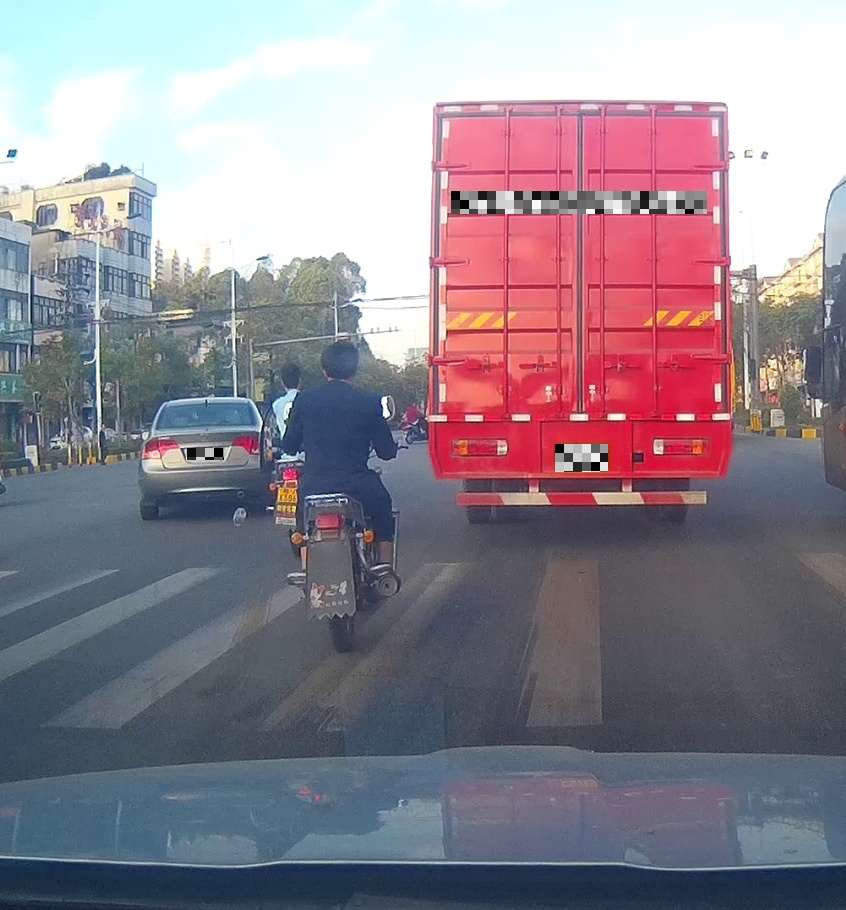L_light: (451, 438, 507, 456), (141, 439, 180, 459)
R_light: (653, 438, 708, 455), (231, 436, 260, 455)
T_light: (559, 115, 603, 129), (198, 403, 215, 409)
day-left: (140, 397, 264, 519)
day-no: (425, 98, 733, 525)
plate_1: (187, 448, 224, 460)
plate_2: (451, 191, 707, 214)
plate_3: (555, 444, 608, 472)
